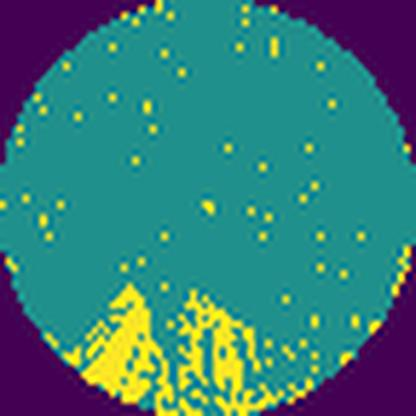Loc: (176, 288, 286, 416), (76, 281, 178, 416)
